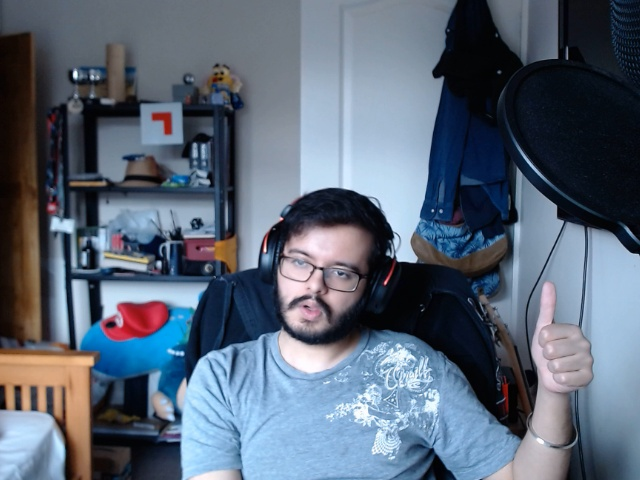Thumbs up: (524, 275, 598, 403)
